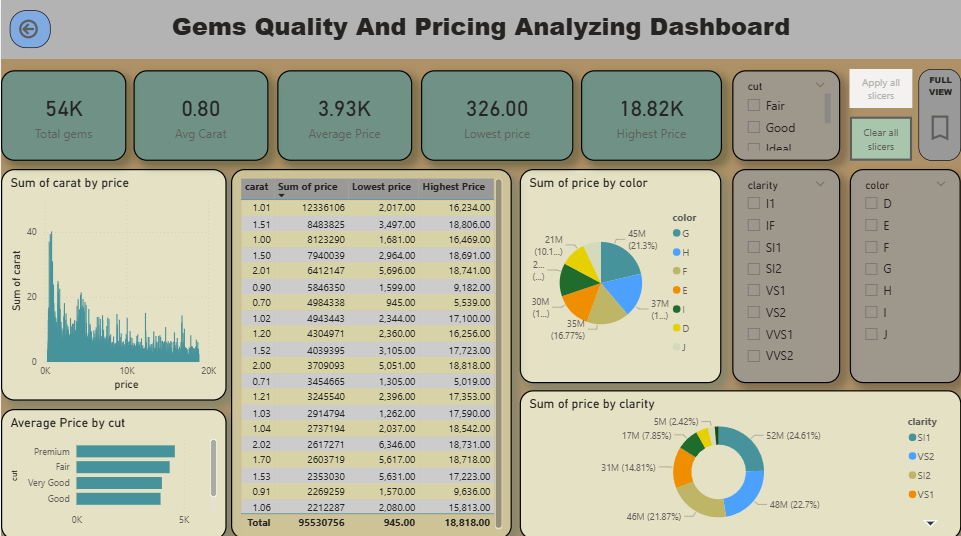

This screenshot's page, from the dashboard's own definition file:
{"tool":"powerbi","page":{"name":"Overview","canvas":[1280,720],"ordinal":0},"visuals":[{"type":"clusteredColumnChart","fields":{"Y":["Sum(diamonds.carat)"],"Category":["diamonds.price"]},"box":[0,226.4,300.5,308.7],"z":0},{"type":"barChart","fields":{"Y":["diamonds.Average Price"],"Category":["diamonds.cut"]},"box":[0,546.1,300.5,174.3],"z":1000},{"type":"pieChart","fields":{"Y":["Sum(diamonds.price)"],"Category":["diamonds.color"]},"box":[691.6,226.4,269,285.4],"z":2000},{"type":"card","fields":{"Values":["diamonds.Total gems"]},"box":[0,94.7,167.4,120.8],"z":3000},{"type":"card","fields":{"Values":["diamonds.Avg Carat"]},"box":[177,94.7,179.8,120.8],"z":4000},{"type":"card","fields":{"Values":["diamonds.Average Price"]},"box":[369.1,94.7,179.8,120.8],"z":5000},{"type":"card","fields":{"Values":["diamonds.Lowest price"]},"box":[559.9,94.7,203.1,120.8],"z":6000},{"type":"card","fields":{"Values":["diamonds.Highest Price"]},"box":[772.6,94.7,188,120.8],"z":7000},{"type":"tableEx","fields":{"Values":["diamonds.carat","Sum(diamonds.price)","diamonds.Lowest price","diamonds.Highest Price"]},"box":[306,226.4,374.6,494],"z":8000},{"type":"textbox","box":[0,0,1280,80],"z":9000},{"type":"slicer","fields":{"Values":["diamonds.cut"]},"box":[974.3,94.7,144.1,120.8],"z":10000},{"type":"slicer","fields":{"Values":["diamonds.color"]},"box":[1132.1,226.4,148.2,285.4],"z":11000},{"type":"slicer","fields":{"Values":["diamonds.clarity"]},"box":[974.3,226.4,144.1,285.4],"z":12000},{"type":"donutChart","fields":{"Y":["Sum(diamonds.price)"],"Category":["diamonds.clarity"]},"box":[691.6,521.4,588.7,199],"z":13000},{"type":"actionButton","box":[1131.6,94.1,83.2,51.9],"z":14000},{"type":"actionButton","box":[1131.6,156.8,83.2,59.1],"z":15000},{"type":"actionButton","box":[11.4,15.7,54.3,50],"z":16000},{"type":"actionButton","title":"FULL VIEW","box":[1223,94,57,122],"z":17000}]}

Visuals, with their boxes in screenshot pixels (x1, y1, x2, y2), scaled from the page's 1280x720 canvas onto the 961x536 screenshot:
clusteredColumnChart - Sum(diamonds.carat) x diamonds.price: (0,169,226,398)
barChart - diamonds.Average Price x diamonds.cut: (0,407,226,535)
pieChart - Sum(diamonds.price) x diamonds.color: (519,169,721,381)
card - diamonds.Total gems: (0,70,126,160)
card - diamonds.Avg Carat: (133,70,268,160)
card - diamonds.Average Price: (277,70,412,160)
card - diamonds.Lowest price: (420,70,573,160)
card - diamonds.Highest Price: (580,70,721,160)
tableEx - diamonds.carat x Sum(diamonds.price): (230,169,511,535)
textbox: (0,0,960,60)
slicer - diamonds.cut: (731,70,840,160)
slicer - diamonds.color: (850,169,960,381)
slicer - diamonds.clarity: (731,169,840,381)
donutChart - Sum(diamonds.price) x diamonds.clarity: (519,388,960,535)
actionButton: (850,70,912,109)
actionButton: (850,117,912,161)
actionButton: (9,12,49,49)
"FULL VIEW" actionButton: (918,70,960,161)
